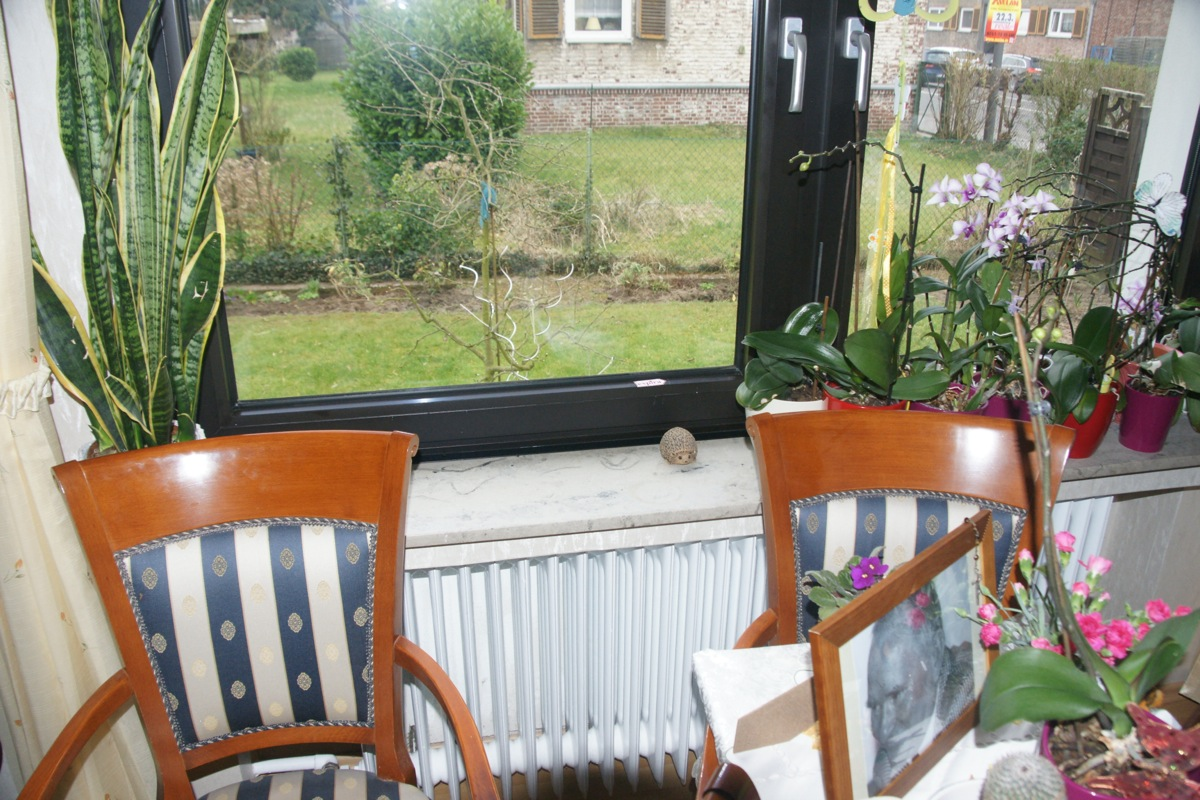windows: (110, 1, 835, 418)
